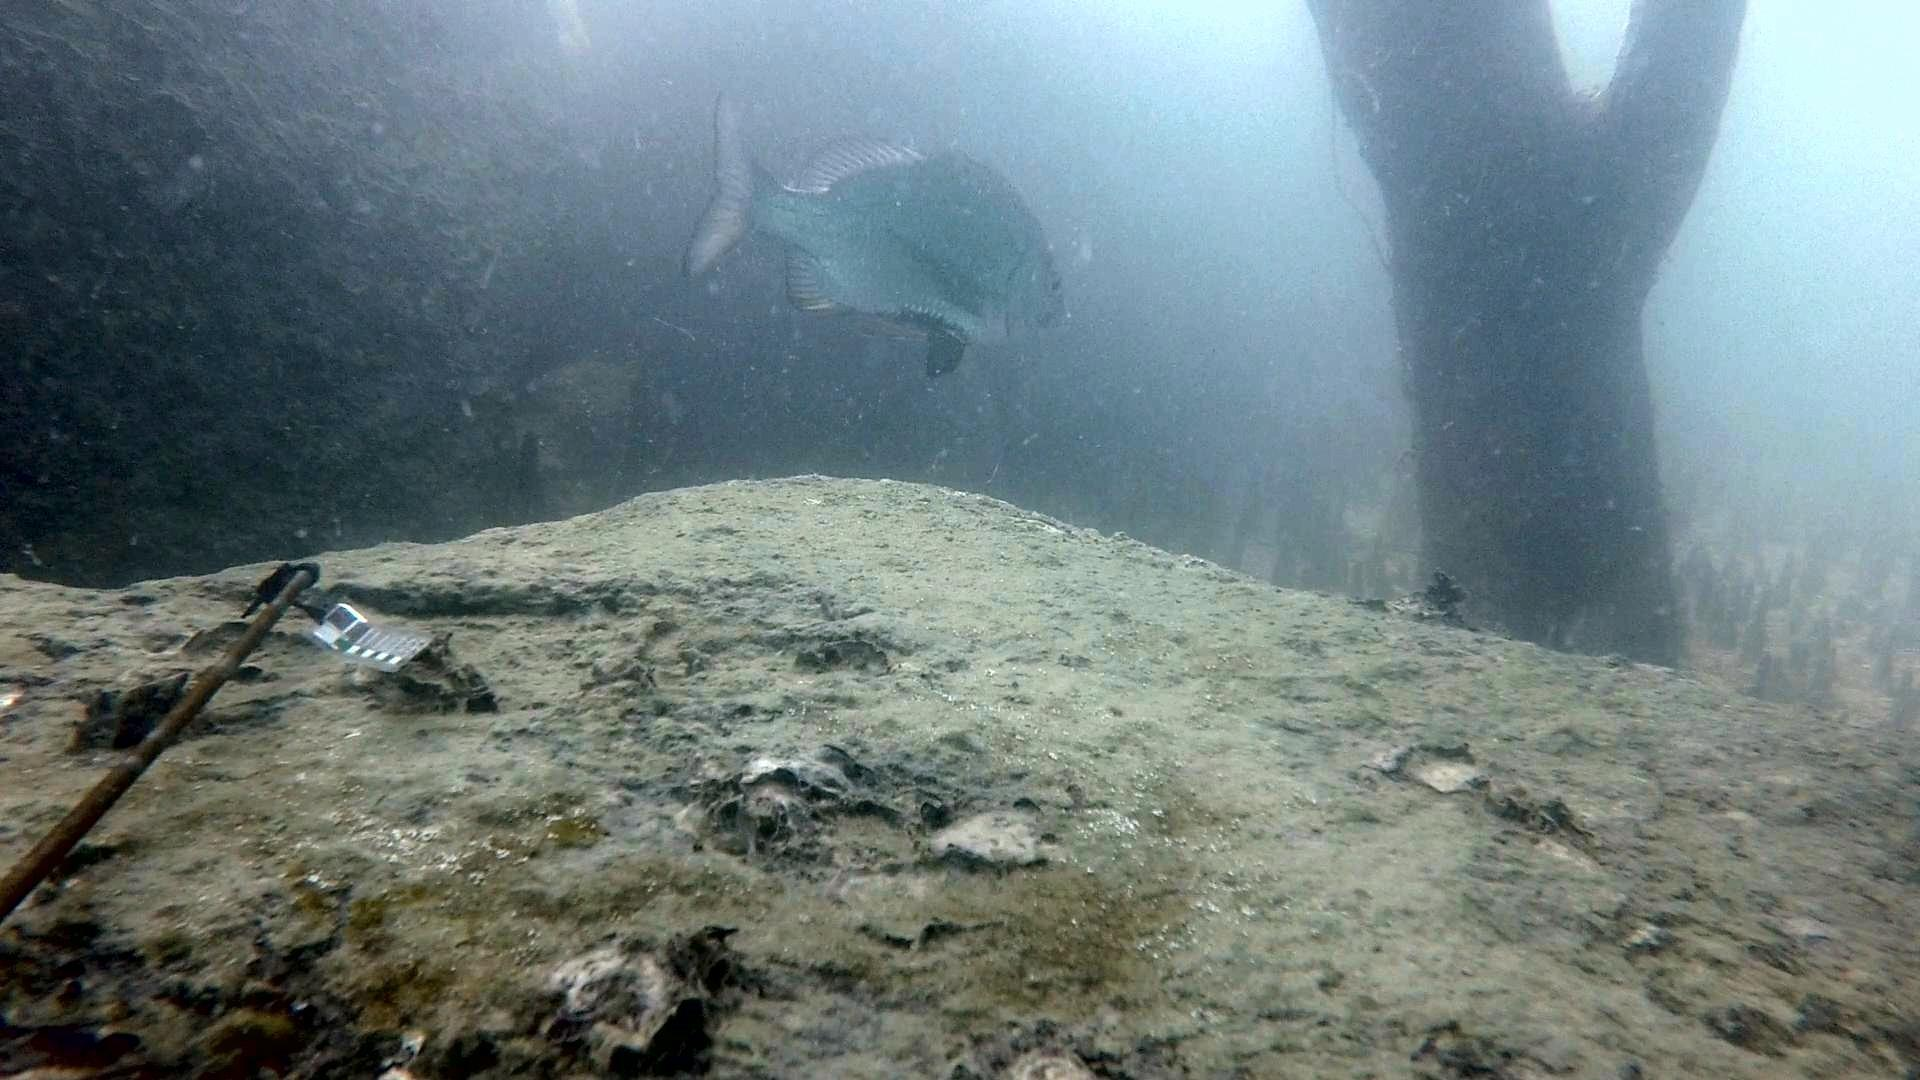acanthopagrus palmaris: (673, 78, 1081, 391)
